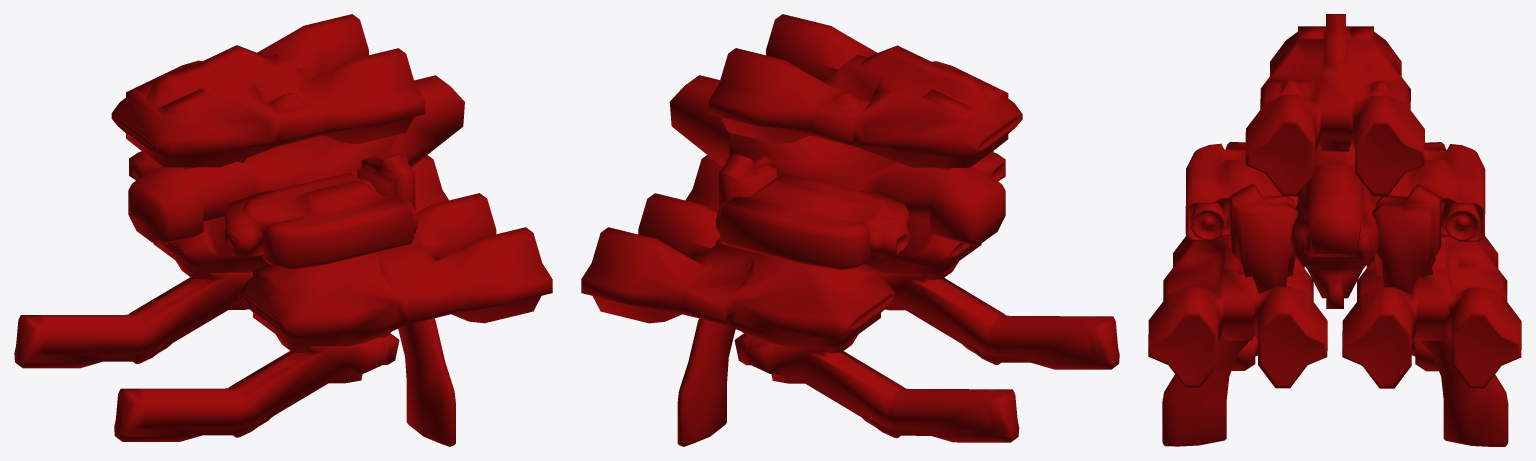
Rendered from ship18_red.glb.
3 renders of one model, left to right at view 1: azimuth 30°, elevation 25°; view 2: azimuth 150°, elevation 25°; view 3: azimuth 270°, elevation 25°, orthographic. The views are drawn at different scales.
Parts seen in each view (by area): view 1: ME_ship_IndexedFaceSet; view 2: ME_ship_IndexedFaceSet; view 3: ME_ship_IndexedFaceSet.
Boxes of the visible parts, x1,y1,x2,y2 form: ME_ship_IndexedFaceSet: (14, 14, 552, 446); ME_ship_IndexedFaceSet: (581, 14, 1119, 446); ME_ship_IndexedFaceSet: (1148, 14, 1521, 446).
Size of the model in its own units: 299 by 266 by 257.
